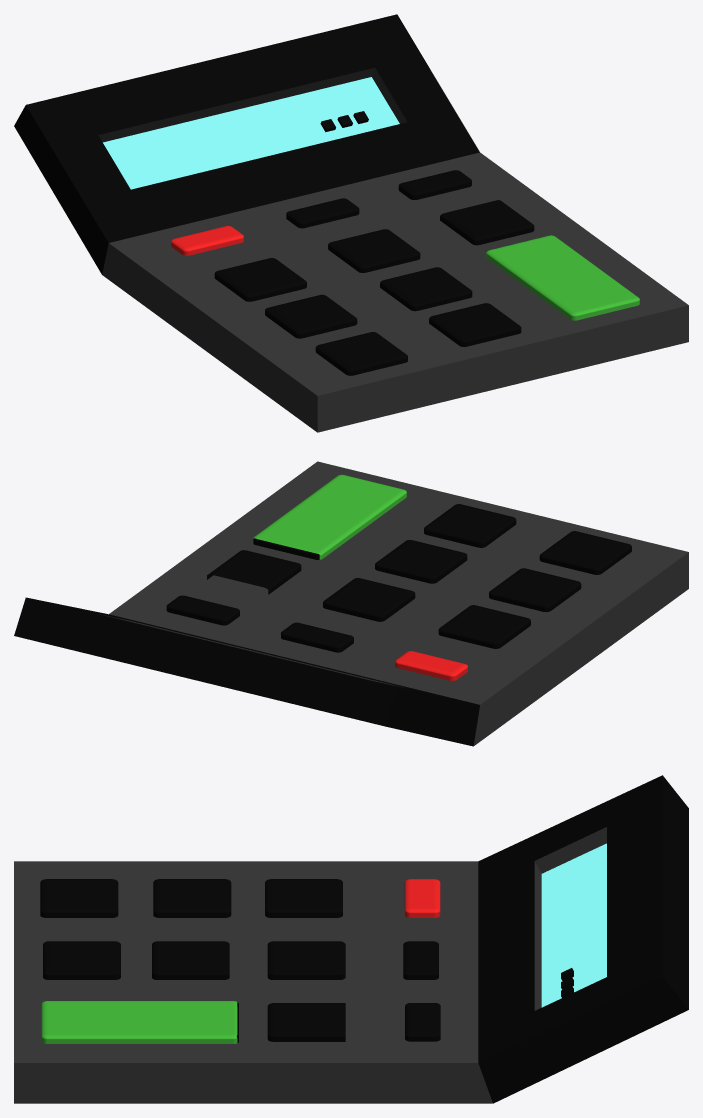
File: calc.glb
3 views of the same model, one above another, from view 1: azimuth 30°, elevation 25°; view 2: azimuth 150°, elevation 25°; view 3: azimuth 270°, elevation 25° (orthographic). The views are drawn at different scales.
Parts seen in each view (by area): view 1: Cube.016; view 2: Cube.016; view 3: Cube.016.
Boxes of the visible parts, x1=… form: Cube.016: x1=14, y1=14, x2=688, y2=432; Cube.016: x1=14, y1=461, x2=688, y2=746; Cube.016: x1=14, y1=775, x2=688, y2=1103.
Bounding box in the file's own units: 0.8199 × 0.2411 × 1.16.
